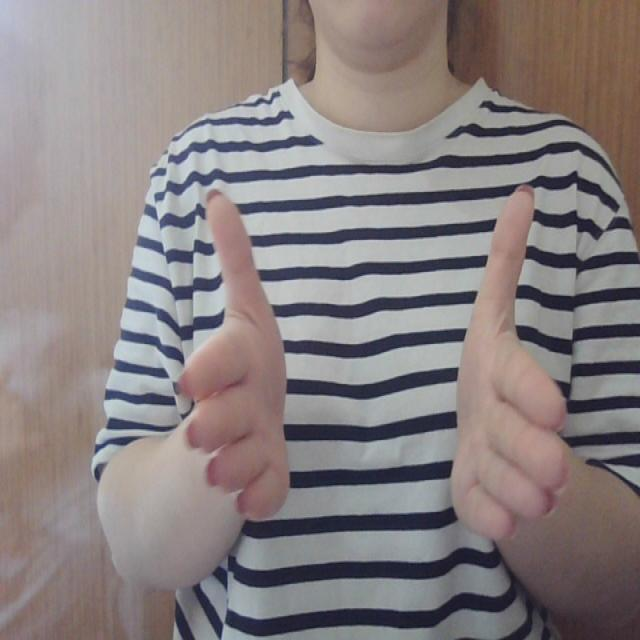Nasil: (166, 179, 596, 562)
